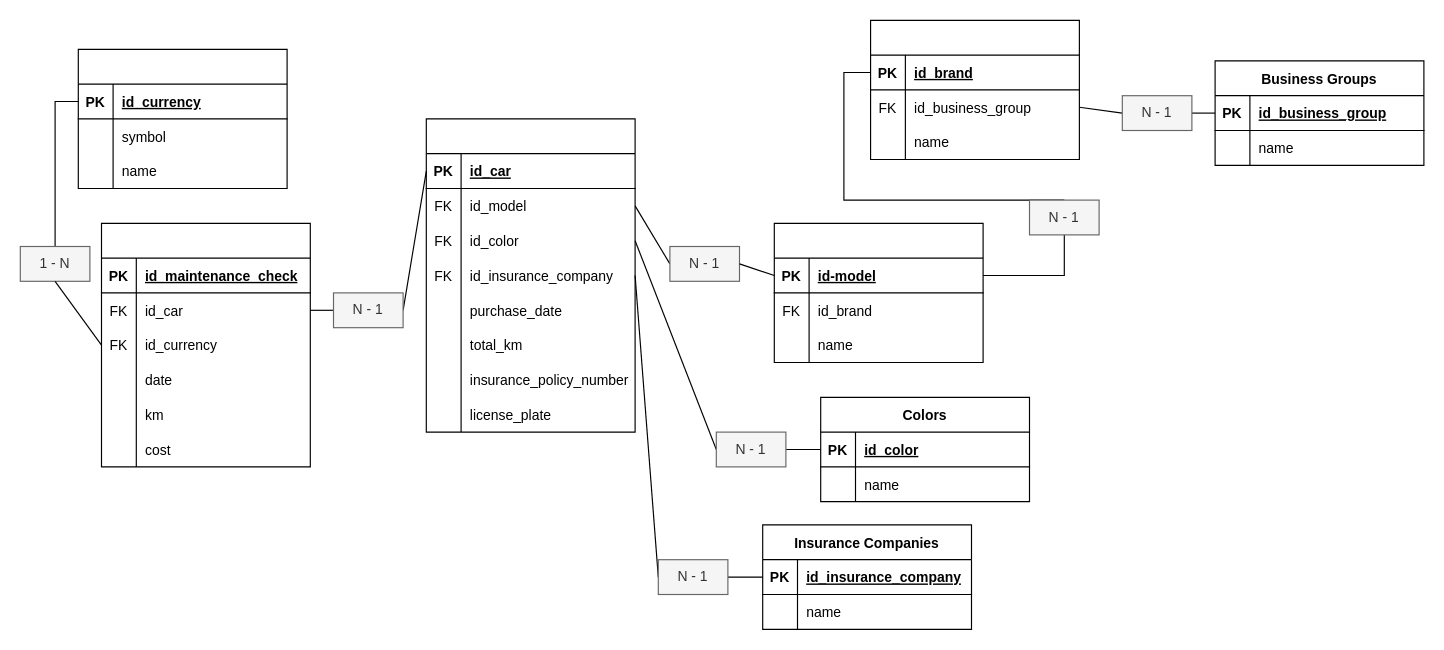
Image size: 1444x650. Some labels were removed from this diagram. The box of each missing label's shape, as (x1, y1, x2, y2) in pixels:
Brands: (869, 19, 1079, 160)
Cars: (425, 118, 635, 432)
Currencies: (77, 48, 287, 188)
Maintenance checks: (100, 222, 310, 467)
Models: (773, 222, 983, 362)
